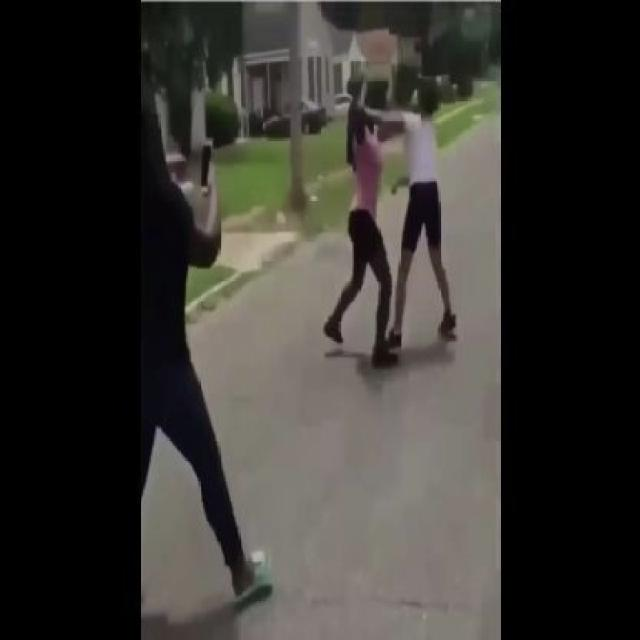fight: (302, 40, 482, 375)
non-fight: (136, 31, 296, 638)
